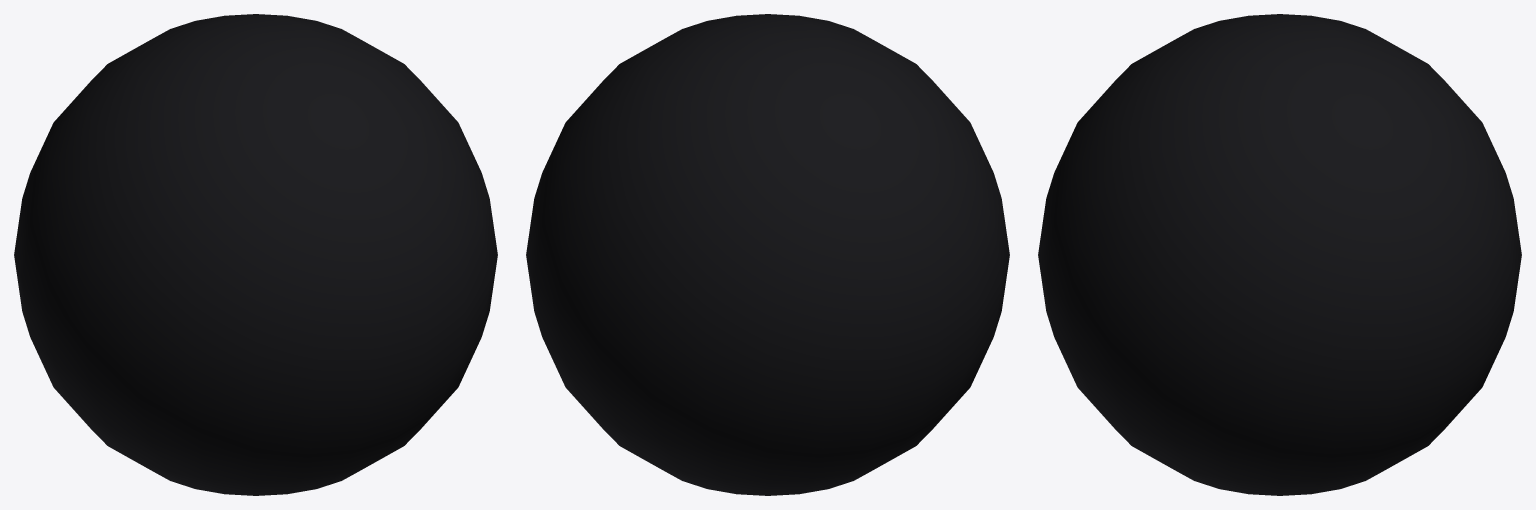
Rendered from PlayerModel.fbx.
3 renders of one model, left to right at view 1: azimuth 30°, elevation 25°; view 2: azimuth 150°, elevation 25°; view 3: azimuth 270°, elevation 25°, orthographic.
Visible parts, largest first — view 1: Sphere.003; view 2: Sphere.003; view 3: Sphere.003.
Part boxes in pixels (box(x1,y1,x2,y2)): Sphere.003: box(14, 14, 497, 495); Sphere.003: box(526, 14, 1009, 495); Sphere.003: box(1038, 14, 1521, 495).
Bounding box in the file's own units: 1.81 × 1.81 × 1.81.
